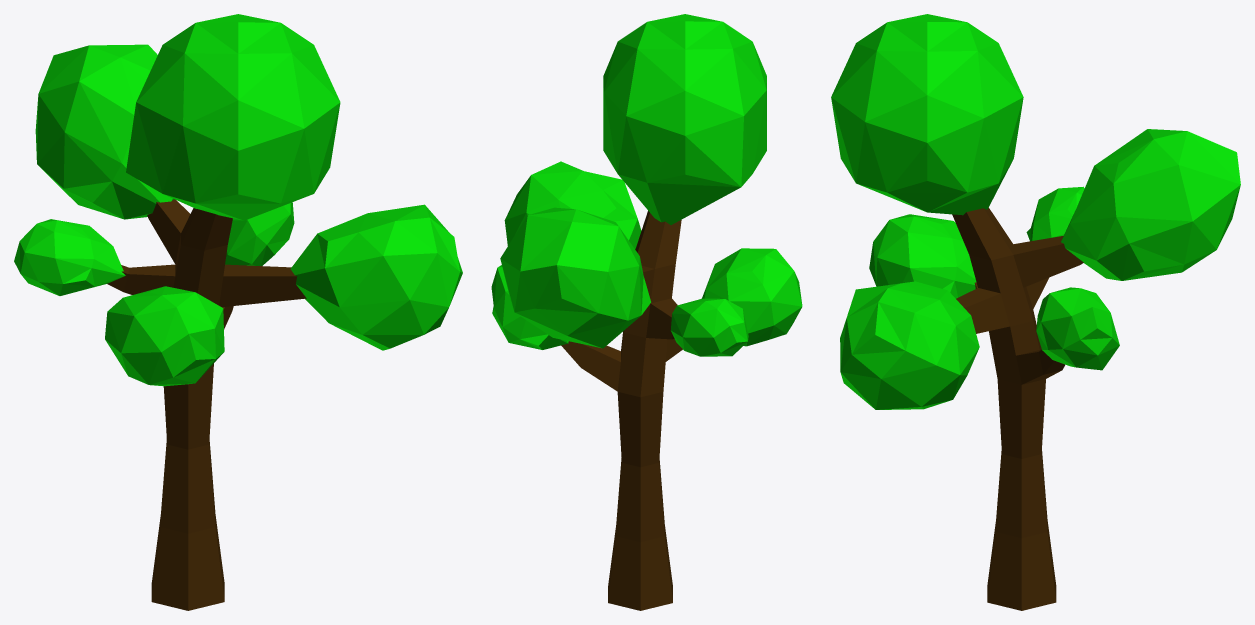
File: Drzewo II.FBX
3 renders of one model, left to right at view 1: azimuth 30°, elevation 25°; view 2: azimuth 150°, elevation 25°; view 3: azimuth 270°, elevation 25°, orthographic. The views are drawn at different scales.
Visible parts, largest first — view 1: GeoSphere001, Cylinder003, GeoSphere005, GeoSphere003, GeoSphere002, GeoSphere006, GeoSphere004; view 2: GeoSphere001, Cylinder003, GeoSphere003, GeoSphere002, GeoSphere005, GeoSphere006, GeoSphere004; view 3: GeoSphere001, Cylinder003, GeoSphere003, GeoSphere005, GeoSphere002, GeoSphere004, GeoSphere006.
Boxes of the visible parts, x1=… form: GeoSphere001: x1=126, y1=14, x2=340, y2=220; Cylinder003: x1=107, y1=199, x2=306, y2=610; GeoSphere005: x1=290, y1=204, x2=462, y2=350; GeoSphere003: x1=35, y1=44, x2=173, y2=219; GeoSphere002: x1=105, y1=286, x2=224, y2=386; GeoSphere006: x1=14, y1=219, x2=125, y2=295; GeoSphere004: x1=225, y1=202, x2=294, y2=265; GeoSphere001: x1=603, y1=14, x2=766, y2=224; Cylinder003: x1=561, y1=210, x2=682, y2=610; GeoSphere003: x1=500, y1=207, x2=650, y2=348; GeoSphere002: x1=701, y1=248, x2=802, y2=346; GeoSphere005: x1=504, y1=161, x2=641, y2=249; GeoSphere006: x1=670, y1=298, x2=748, y2=356; GeoSphere004: x1=491, y1=265, x2=568, y2=349; GeoSphere001: x1=831, y1=14, x2=1023, y2=215; Cylinder003: x1=952, y1=208, x2=1083, y2=610; GeoSphere003: x1=1061, y1=129, x2=1240, y2=280; GeoSphere005: x1=840, y1=281, x2=979, y2=409; GeoSphere002: x1=869, y1=214, x2=976, y2=298; GeoSphere004: x1=1036, y1=287, x2=1119, y2=370; GeoSphere006: x1=1026, y1=186, x2=1084, y2=241.
Bounding box in the file's own units: 33.9 × 57.13 × 37.08.
